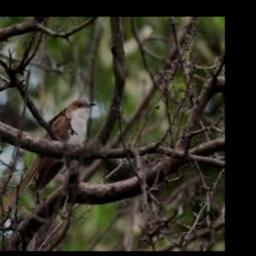Cuckoo: (0, 98, 95, 215)
